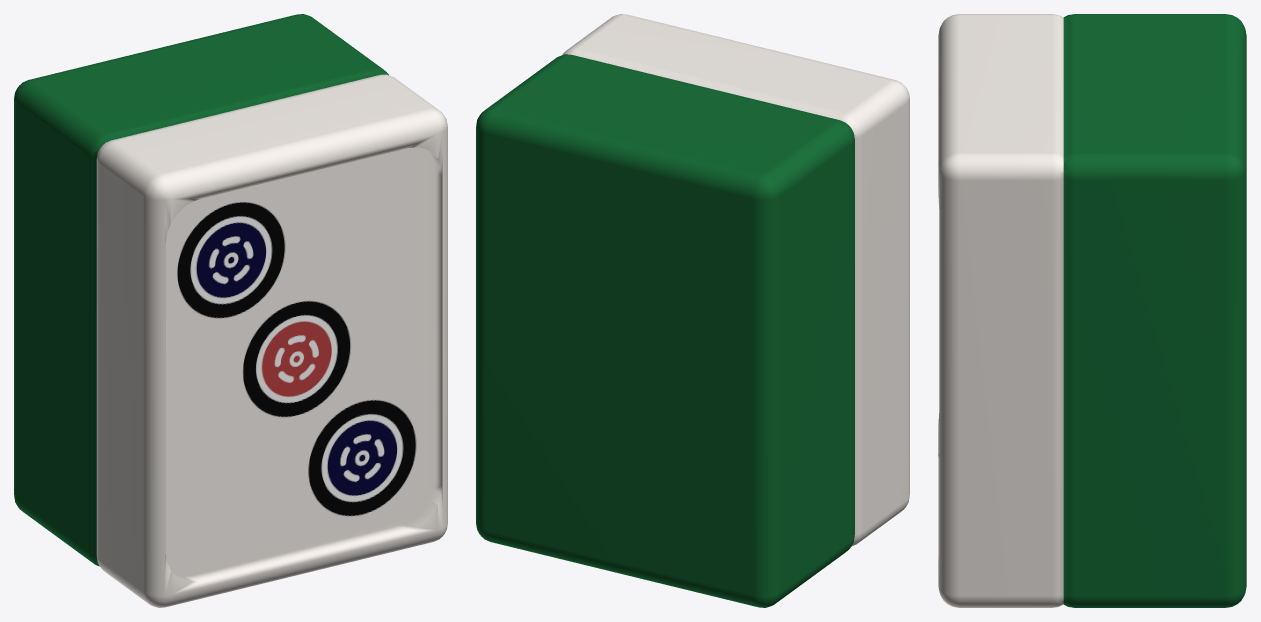
Rendered from pin3-5d3zbgn7.glb.
3 views of the same model, side by side, from view 1: azimuth 30°, elevation 25°; view 2: azimuth 150°, elevation 25°; view 3: azimuth 270°, elevation 25° (orthographic). The views are drawn at different scales.
Visible parts, largest first — view 1: TileBody, FacePanel; view 2: TileBody; view 3: TileBody.
Part boxes in pixels (box(x1,y1,x2,y2)): TileBody: box(14, 14, 447, 607); FacePanel: box(165, 148, 428, 569); TileBody: box(476, 14, 909, 607); TileBody: box(938, 14, 1246, 607).
Bounding box in the file's own units: 19 × 26 × 16.
Materials: 3 (1 with a texture image).
